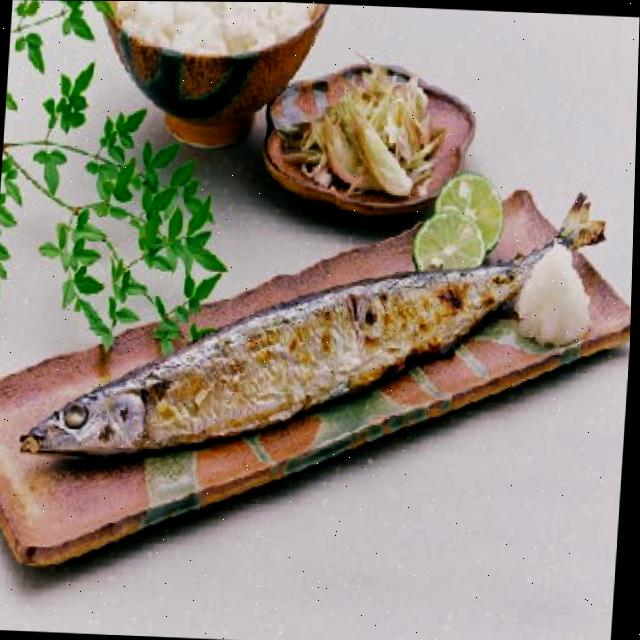熟制海鲜: (0, 146, 637, 513)
